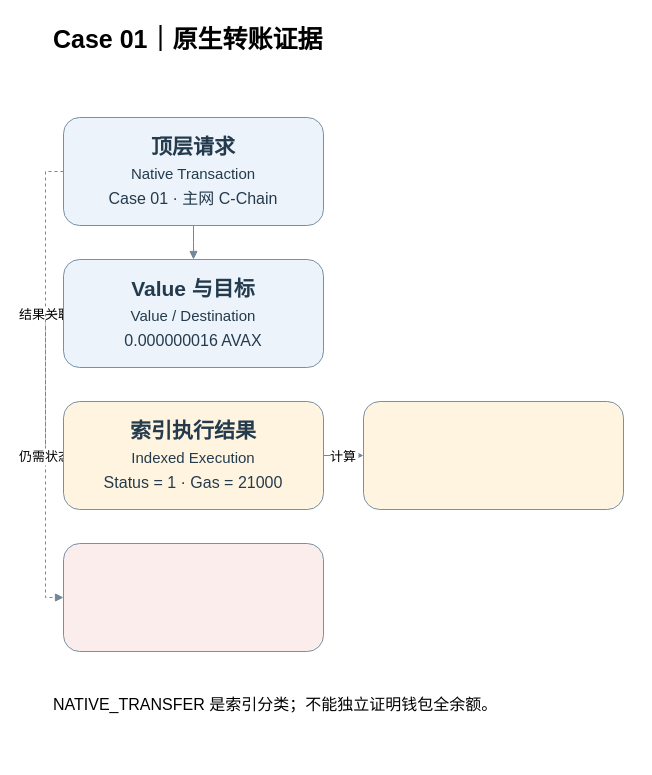
This 652x775 diagram has some shape labels left out. Each missing label, with the box of its shape:
余额与代码缺口 State / Code Gap 未取得完整前后状态: (62, 542, 324, 652)
实付费用计算 Derived Fee Gas × 有效单价: (362, 400, 624, 510)
